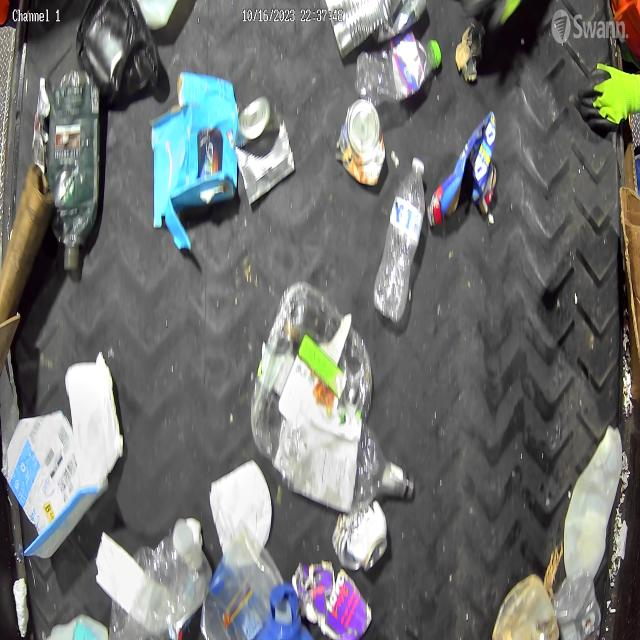can: (108, 518, 214, 640), (236, 97, 295, 208), (339, 102, 387, 188), (332, 502, 388, 570)
milk_jug: (564, 427, 623, 581)
plastic_bottle: (249, 374, 421, 513), (374, 153, 424, 321), (355, 29, 443, 106)
